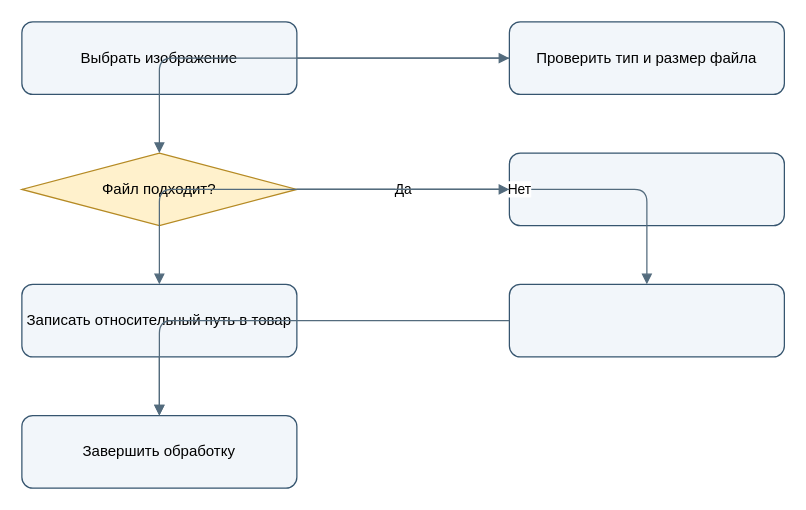
This 806x510 diagram has some shape labels left out. Each missing label, with the centre of its shape:
Сообщить об ограничениях: (646,320)
Сохранить копию в каталоге изображений: (646,189)
